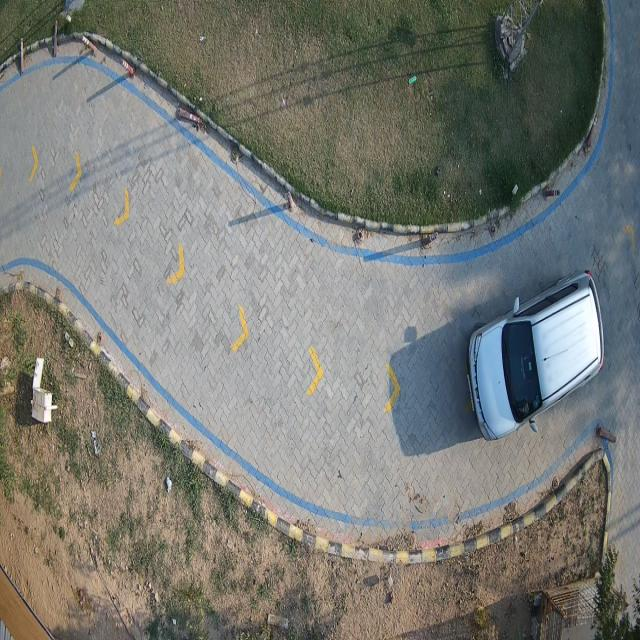car: (466, 267, 605, 442)
